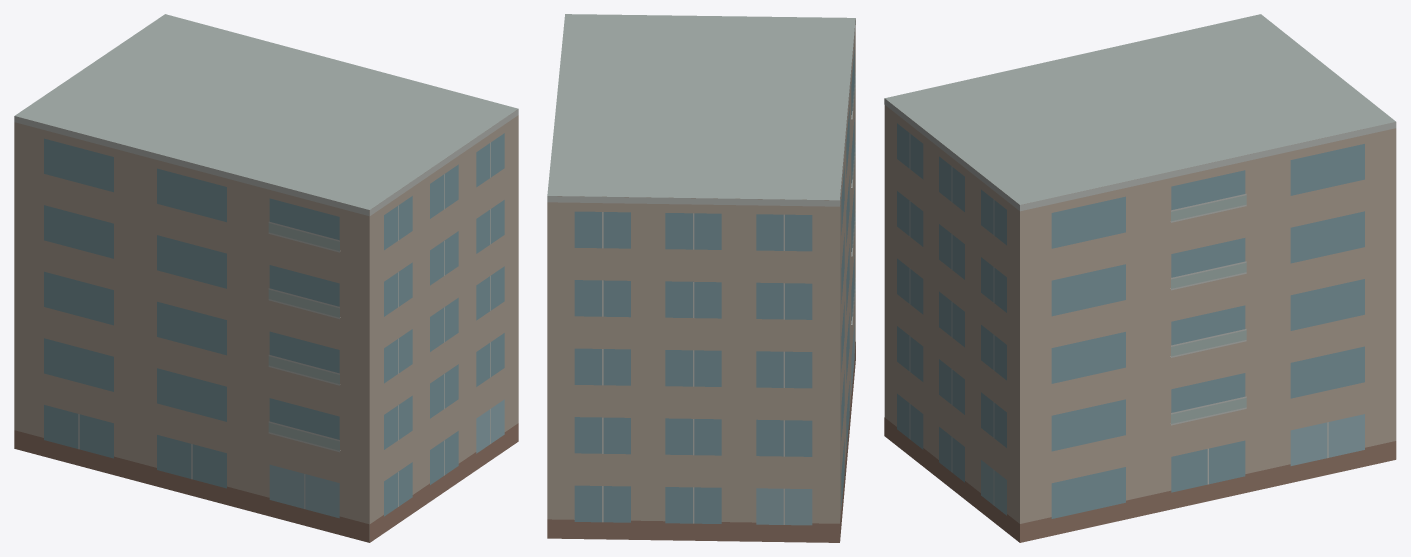
File: survey-upis-32885856.glb
3 renders of one model, left to right at view 1: azimuth 30°, elevation 25°; view 2: azimuth 150°, elevation 25°; view 3: azimuth 270°, elevation 25°, orthographic. The views are drawn at different scales.
Visible parts, largest first — view 1: survey-upis-32885856.tmp; view 2: survey-upis-32885856.tmp; view 3: survey-upis-32885856.tmp.
Boxes of the visible parts, box(x1,y1,x2,y2) form: survey-upis-32885856.tmp: box(14, 14, 518, 542); survey-upis-32885856.tmp: box(547, 14, 855, 542); survey-upis-32885856.tmp: box(884, 14, 1396, 542).
Bounding box in the file's own units: 15.77 × 13 × 17.86.
